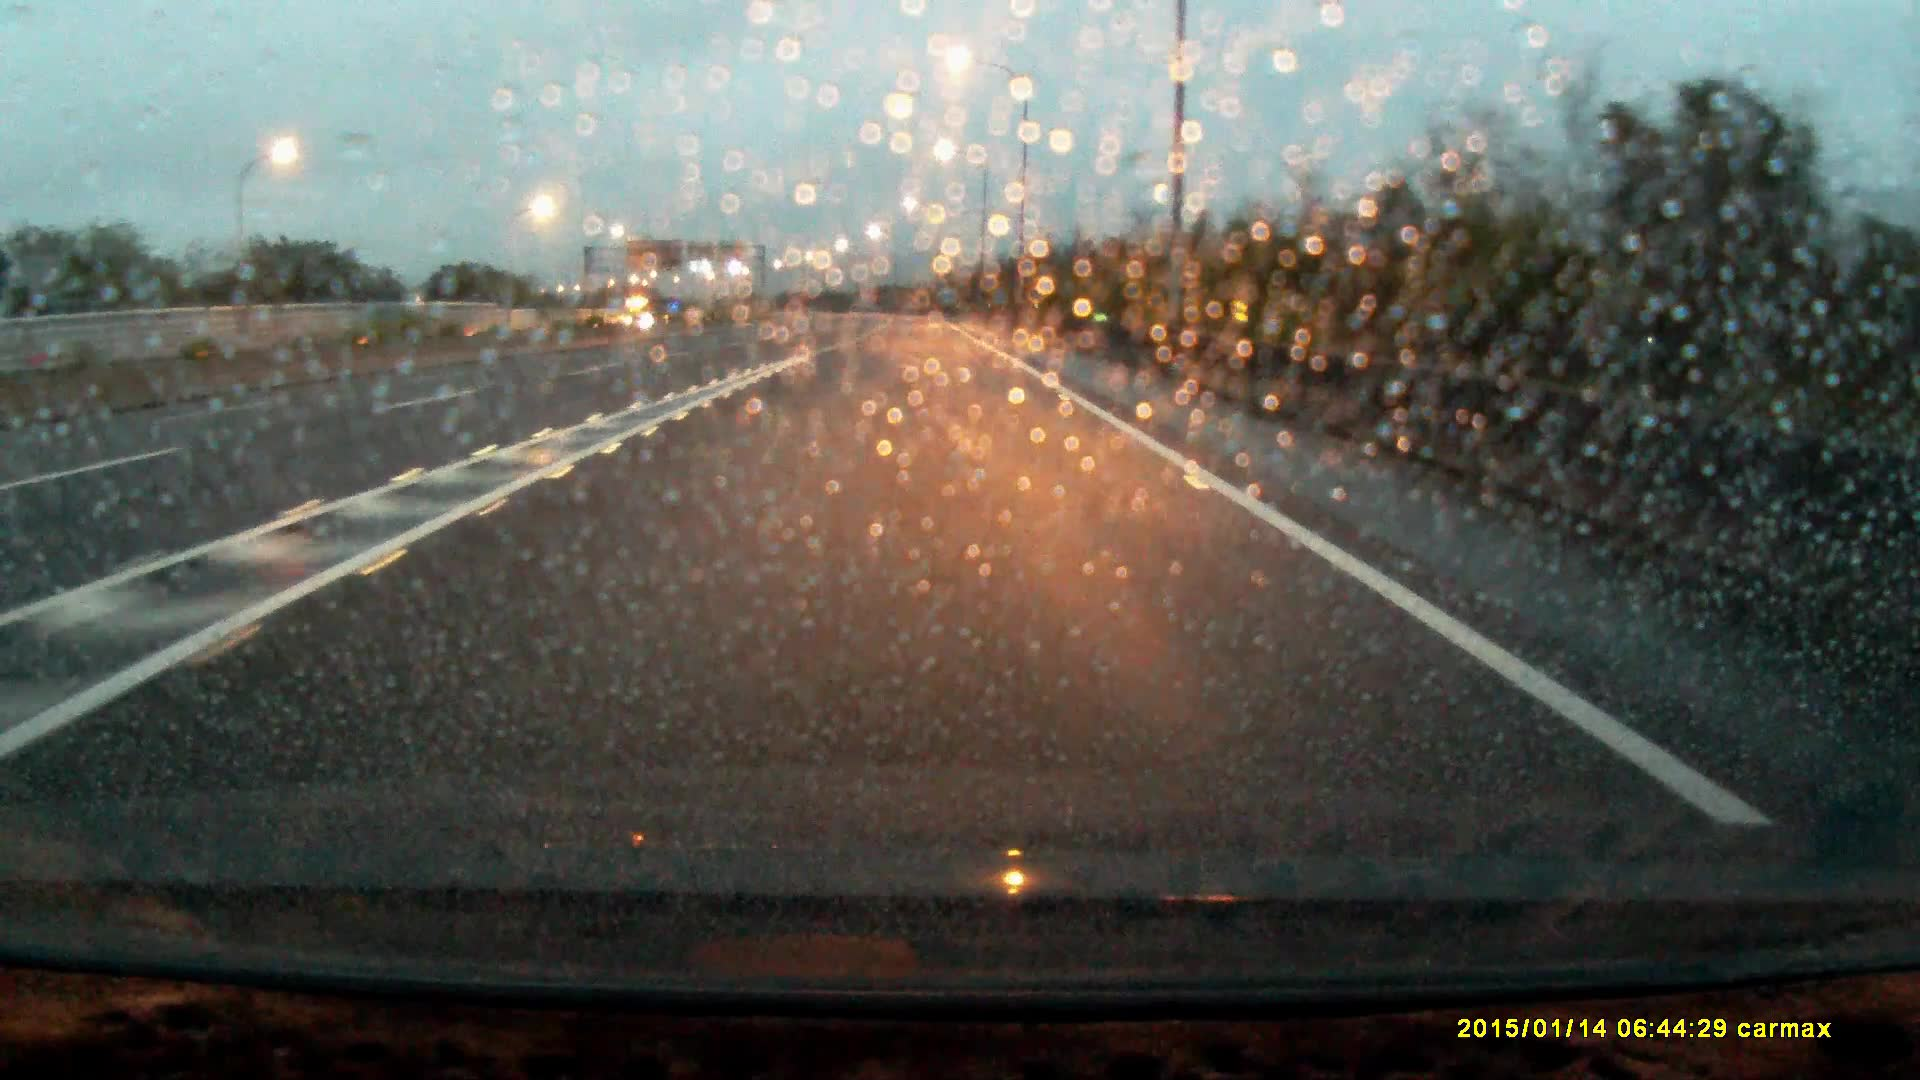vehicle: (622, 295, 655, 330)
